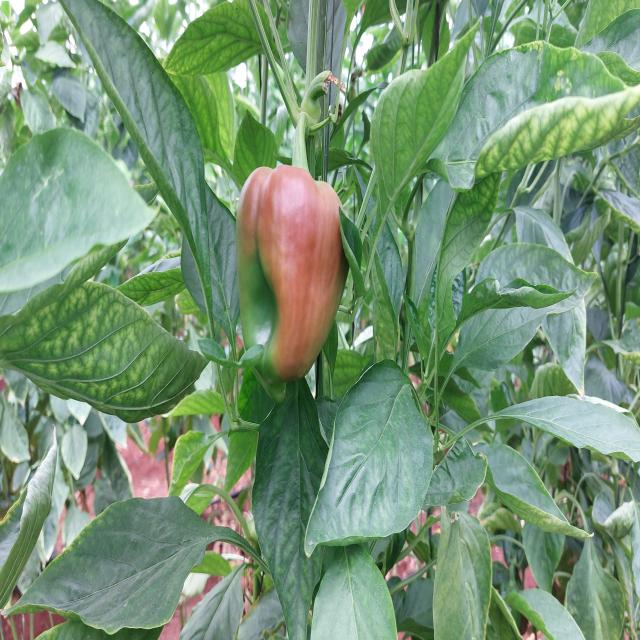BrownishRed--Can-be-Harvested: (238, 162, 349, 374)
